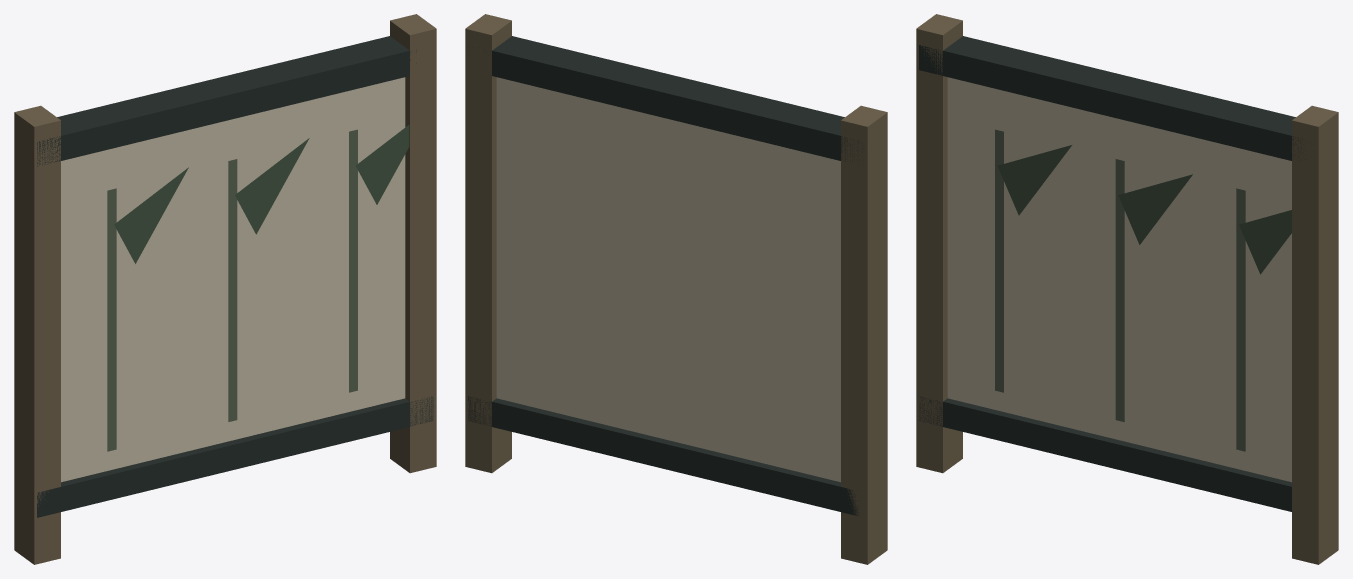
Rendered from screen.glb.
3 renders of one model, left to right at view 1: azimuth 30°, elevation 25°; view 2: azimuth 150°, elevation 25°; view 3: azimuth 330°, elevation 25°, orthographic.
Visible parts, largest first — view 1: screen; view 2: screen; view 3: screen.
Part boxes in pixels (x1,y1,x2,y2): screen: (14,14,436,564); screen: (465,14,887,564); screen: (916,14,1338,564).
Bounding box in the file's own units: 1.5 × 1.56 × 0.13.
